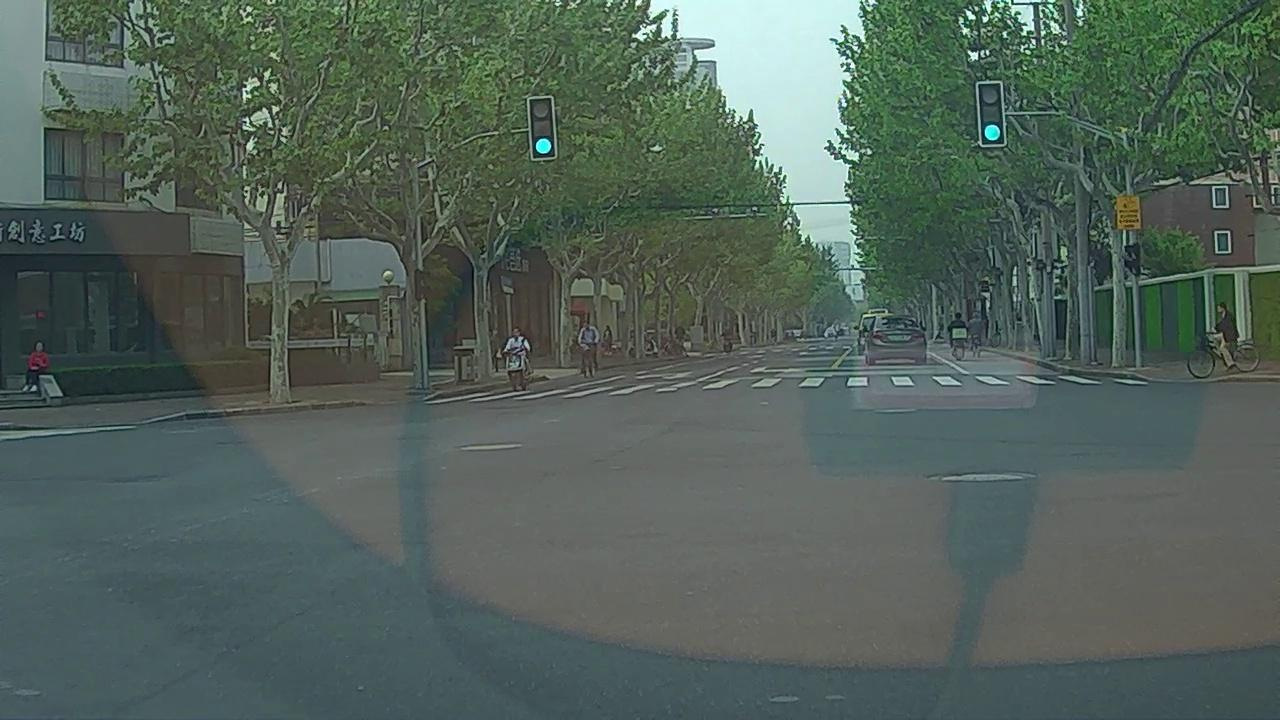traffic_light: (979, 83, 1004, 146), (530, 99, 555, 159)
